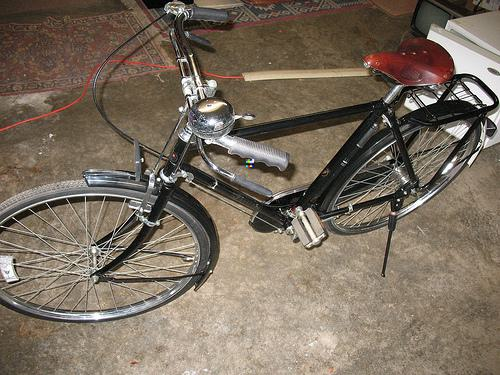car: (1, 1, 500, 325)
